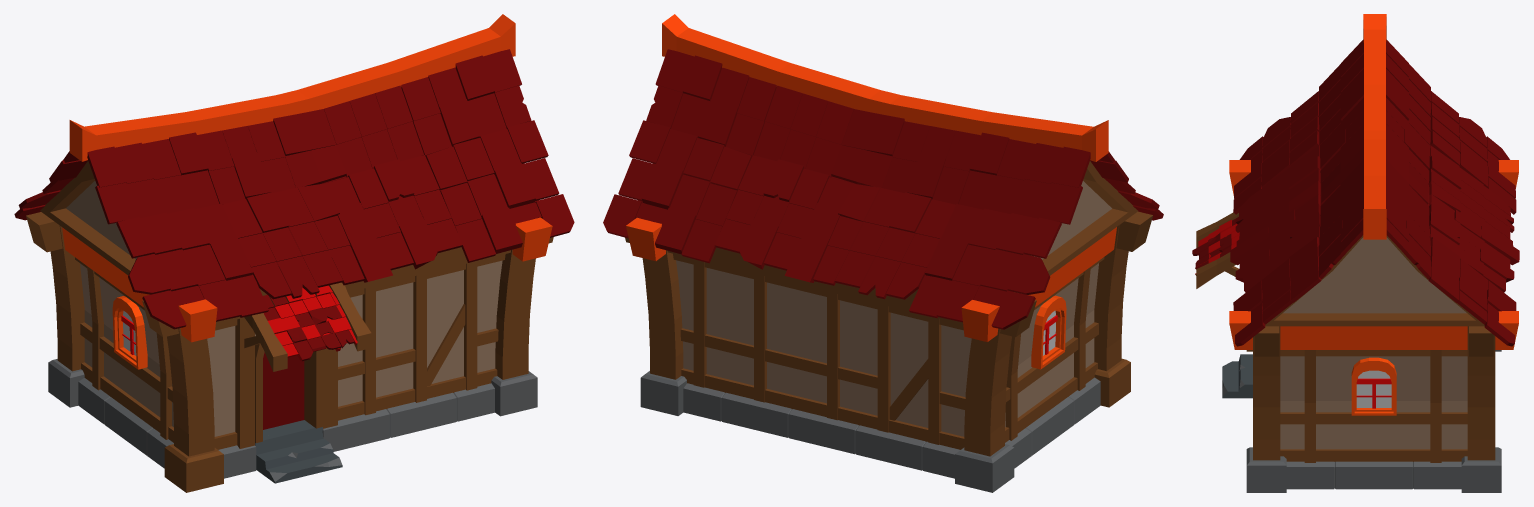
Rendered from SM_Hous_17_A.gltf.
3 views of the same model, side by side, from view 1: azimuth 30°, elevation 25°; view 2: azimuth 150°, elevation 25°; view 3: azimuth 270°, elevation 25° (orthographic). The views are drawn at different scales.
Visible parts, largest first — view 1: SM_Hous_17_A; view 2: SM_Hous_17_A; view 3: SM_Hous_17_A.
Boxes of the visible parts, left/top/right/bottom form: SM_Hous_17_A: left=14, top=14, right=574, bottom=492; SM_Hous_17_A: left=603, top=14, right=1163, bottom=492; SM_Hous_17_A: left=1192, top=14, right=1519, bottom=492.
Bounding box in the file's own units: 8.55 × 6.18 × 6.07.
